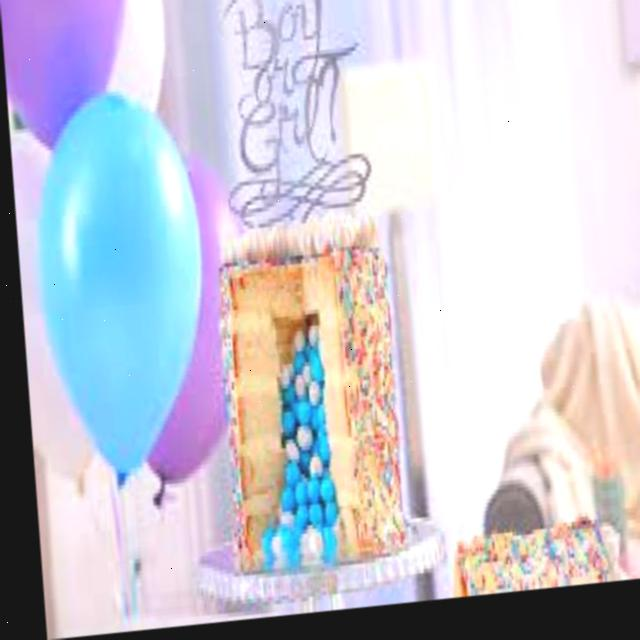balloon: (22, 88, 210, 487)
